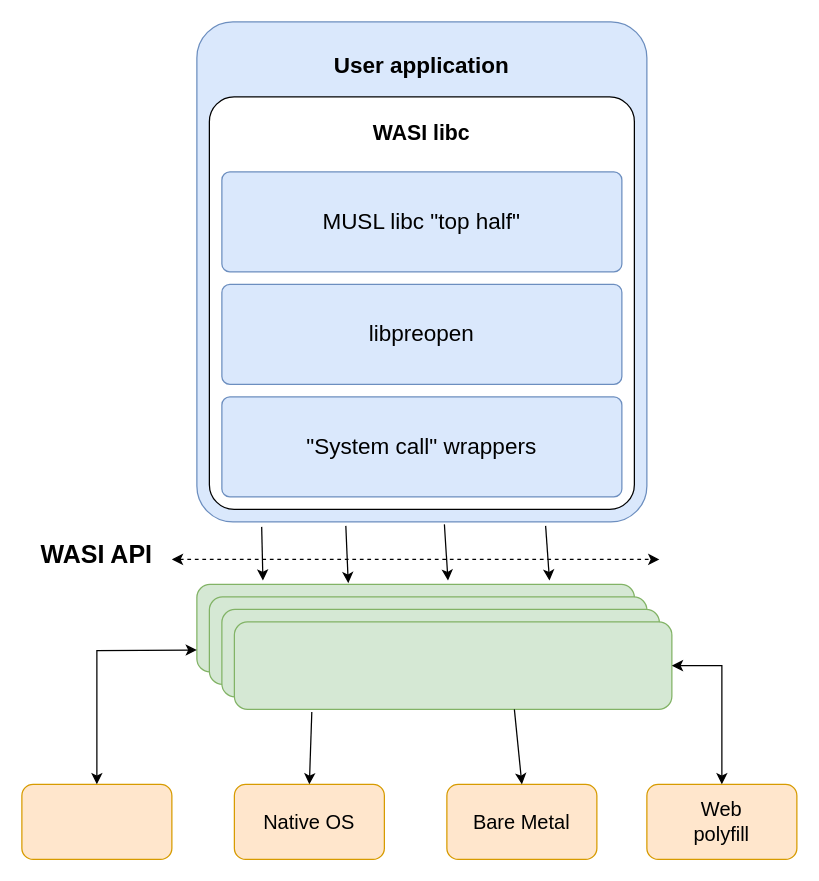
This 819x881 diagram has some shape labels left out. The centre of each missing label's shape, as x and y in pixels:
Host application: [96,821]
Implementation of WASI: [452,665]
